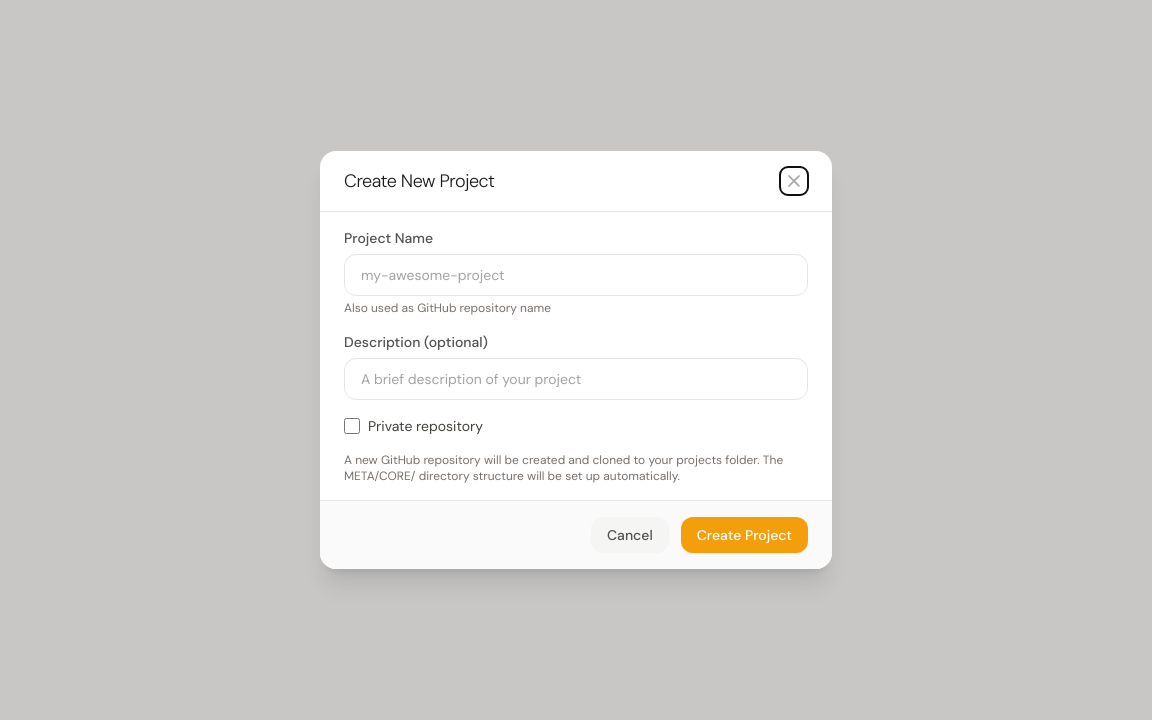
Test: CreateProjectModal › should handle GITHUB_REPO_EXISTS error
Type "my-project" into the field with placeholder "my-awesome-project" at [576, 275], box [344, 254, 808, 296]
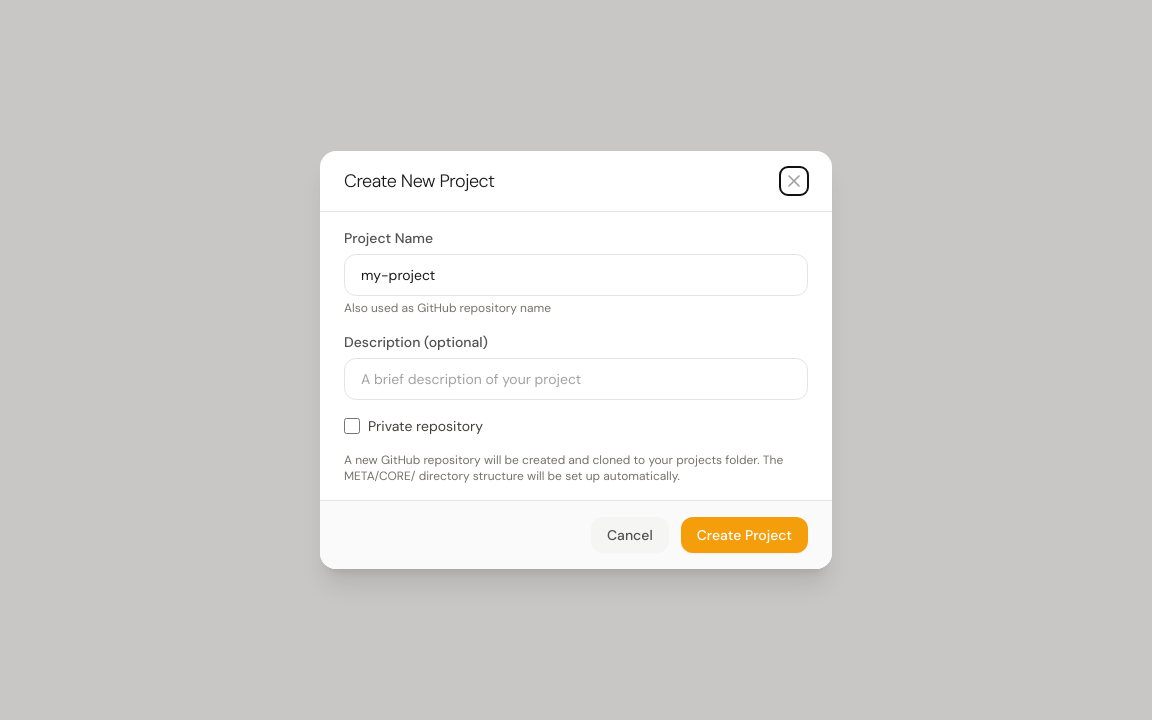
Click the button "Create Project" at [744, 535], box [681, 517, 808, 553]
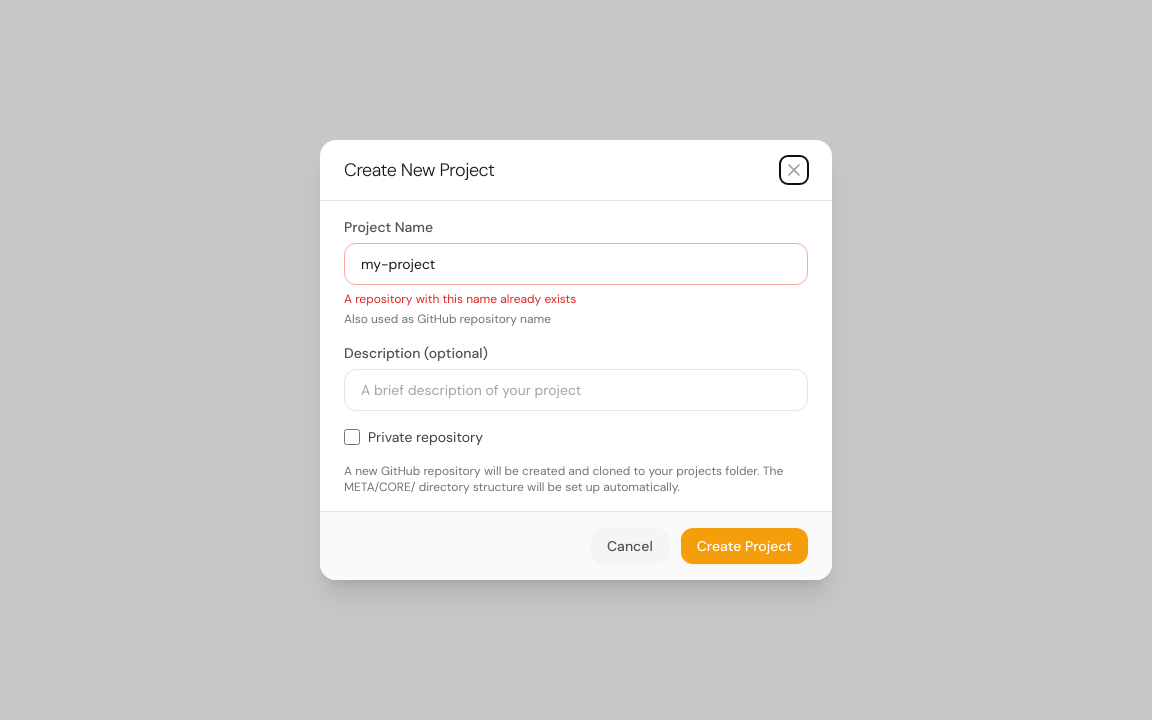
Expected: the text "A repository with this name already exists" is shown, [344, 291, 576, 307]
